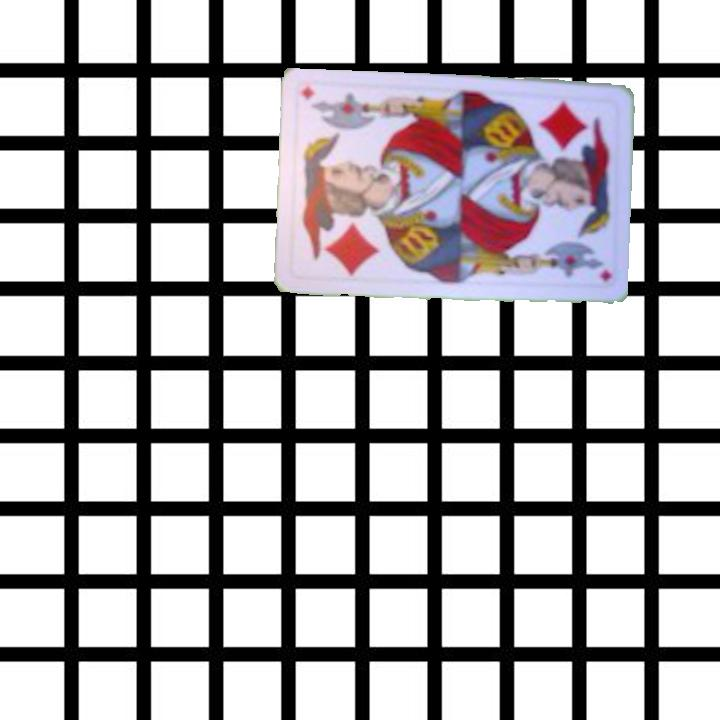d_j.png: (289, 178, 379, 281), (529, 94, 618, 197)
